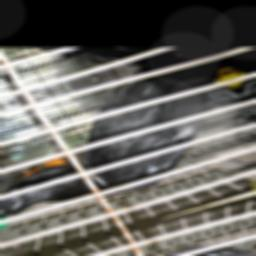Crow: (0, 48, 256, 227)
